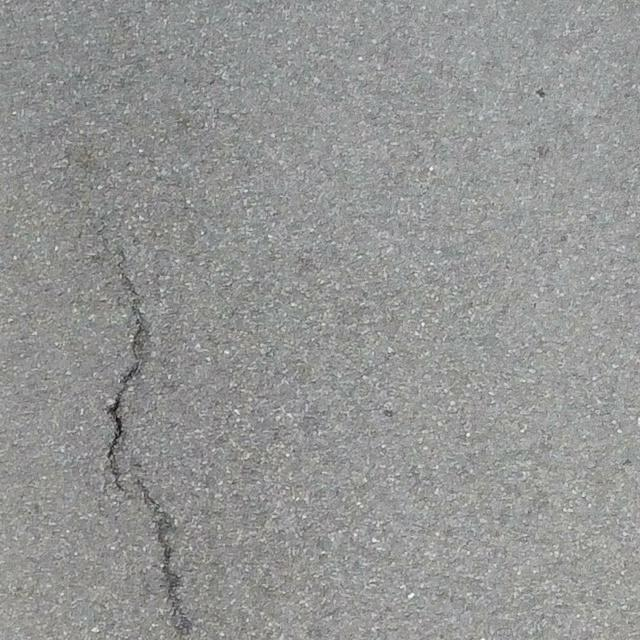LongitudinalCrack: (105, 248, 194, 640)
